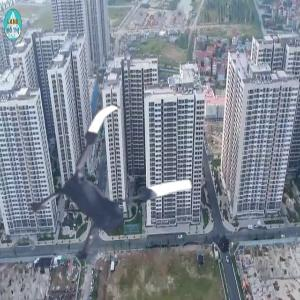drone: (17, 103, 202, 288)
